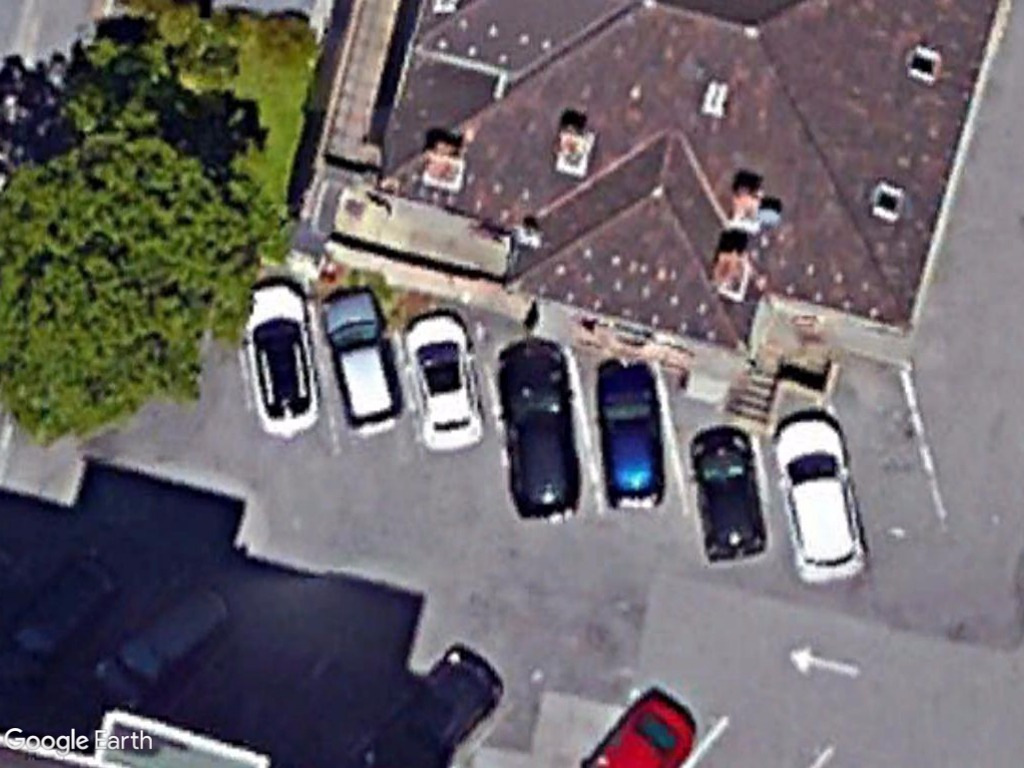car: (776, 411, 876, 589), (496, 340, 584, 524), (238, 276, 321, 441), (592, 354, 676, 516), (318, 288, 404, 443), (687, 421, 772, 566), (400, 310, 484, 453)
